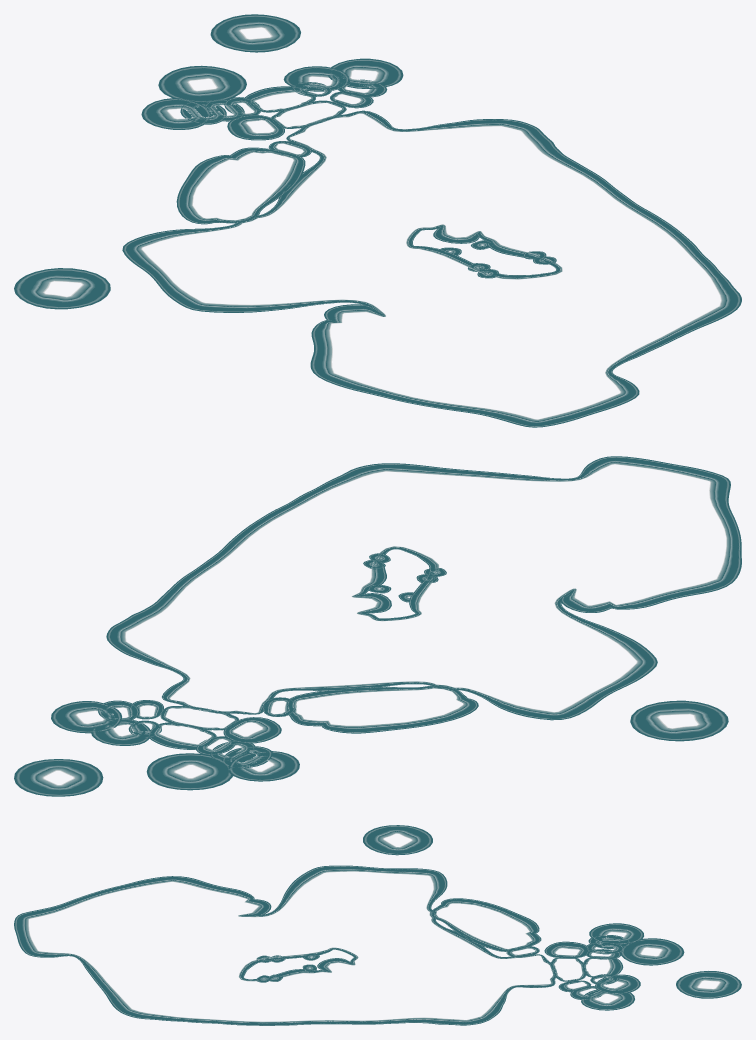
Rendered from wateredge.glb.
3 views of the same model, one above another, from view 1: azimuth 30°, elevation 25°; view 2: azimuth 150°, elevation 25°; view 3: azimuth 270°, elevation 25° (orthographic). The views are drawn at different scales.
Parts seen in each view (by area): view 1: Water; view 2: Water; view 3: Water.
Boxes of the visible parts, <box> form: Water: <box>14,14,741,427</box>; Water: <box>14,456,741,796</box>; Water: <box>14,825,741,1025</box>.
Size of the model in its own units: 29.84 by 1.02e-14 by 45.72.
1 material, 1 textured.
